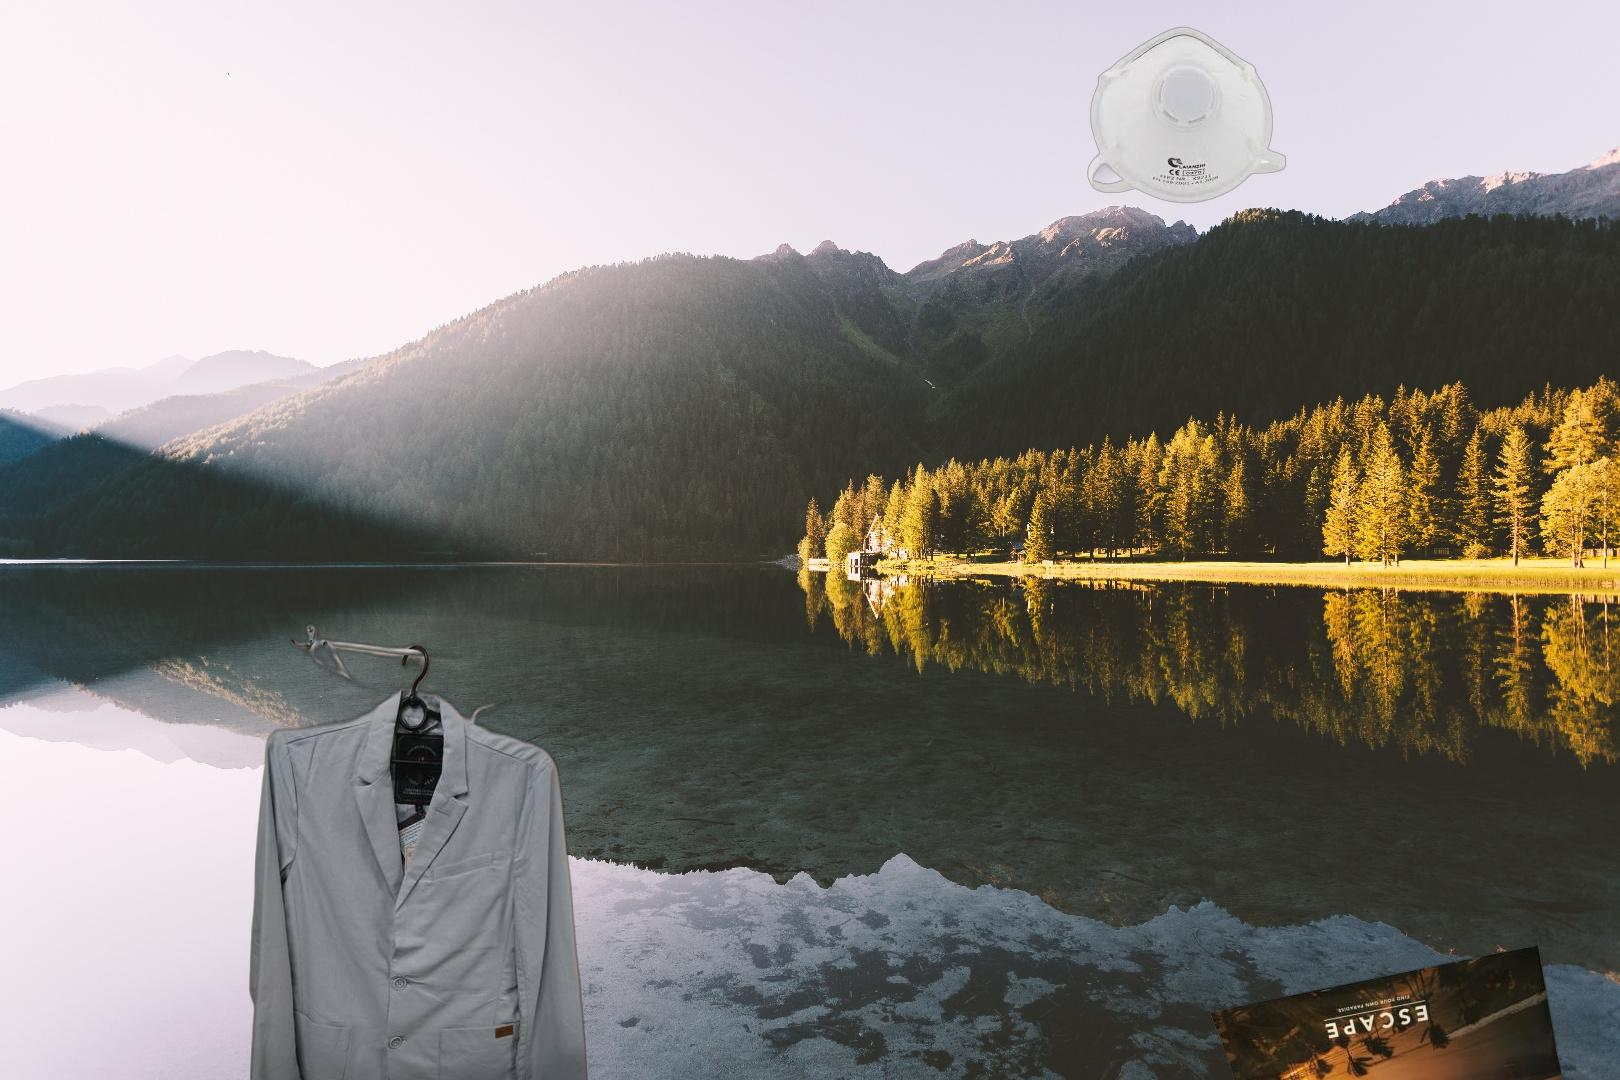clothes: (243, 617, 593, 1080)
paper: (1207, 943, 1584, 1080)
trash: (1085, 24, 1289, 206)
